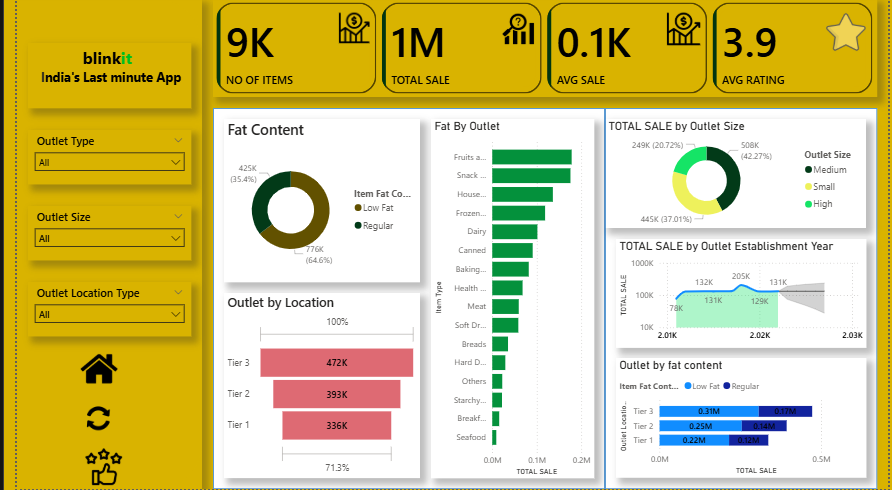

The dashboard page shown, as its layout file describes it:
{"tool":"powerbi","page":{"name":"Page 1","canvas":[1280,720],"ordinal":0},"visuals":[{"type":"textbox","box":[16,16,240,144],"z":1000},{"type":"shape","box":[0,0,272,720],"z":1001},{"type":"textbox","box":[16,64,240,96],"z":1002},{"type":"cardVisual","fields":{"Data":["BlinkIT Grocery Data.NO OF ITEMS","BlinkIT Grocery Data.TOTAL SALE","BlinkIT Grocery Data.AVG SALE","BlinkIT Grocery Data.AVG RATING"]},"box":[288,0,976,144],"z":1003},{"type":"slicer","fields":{"Values":["BlinkIT Grocery Data.Outlet Type"]},"box":[16,192,240,80],"z":1004},{"type":"slicer","fields":{"Values":["BlinkIT Grocery Data.Outlet Size"]},"box":[16,304,240,80],"z":1005},{"type":"slicer","fields":{"Values":["BlinkIT Grocery Data.Outlet Location Type"]},"box":[16,416,240,80],"z":1007},{"type":"clusteredBarChart","title":"Fat By Outlet","fields":{"Category":["BlinkIT Grocery Data.Item Type"],"Y":["BlinkIT Grocery Data.TOTAL SALE"]},"box":[304,176,240,400],"z":1008},{"type":"shape","box":[288,160,576,560],"z":1009},{"type":"donutChart","title":"Fat Content","fields":{"Category":["BlinkIT Grocery Data.Item Fat Content"],"Y":["BlinkIT Grocery Data.TOTAL SALE"]},"box":[304,176,288,240],"z":1010},{"type":"funnel","title":"Outlet by Location","fields":{"Category":["BlinkIT Grocery Data.Outlet Location Type"],"Y":["BlinkIT Grocery Data.TOTAL SALE"]},"box":[304,432,288,272],"z":1011},{"type":"clusteredBarChart","title":"Fat By Outlet","fields":{"Category":["BlinkIT Grocery Data.Item Type"],"Y":["BlinkIT Grocery Data.TOTAL SALE"]},"box":[608,176,240,528],"z":1012},{"type":"shape","box":[864,160,400,560],"z":1013},{"type":"donutChart","fields":{"Category":["BlinkIT Grocery Data.Outlet Size"],"Y":["BlinkIT Grocery Data.TOTAL SALE"]},"box":[864,176,384,160],"z":1014},{"type":"lineChart","fields":{"Category":["BlinkIT Grocery Data.Outlet Establishment Year"],"Y":["BlinkIT Grocery Data.TOTAL SALE"]},"box":[880,352,368,160],"z":1015},{"type":"barChart","title":"Outlet by fat content","fields":{"Category":["BlinkIT Grocery Data.Outlet Location Type"],"Series":["BlinkIT Grocery Data.Item Fat Content"],"Y":["BlinkIT Grocery Data.TOTAL SALE"]},"box":[880,528,368,176],"z":1016},{"type":"image","box":[64,512,112,64],"z":1017},{"type":"image","box":[96,592,48,48],"z":1018},{"type":"image","box":[96,656,64,64],"z":1019}]}

Visuals, with their boxes in screenshot pixels (x1, y1, x2, y2), scaled from the page's 1280x720 canvas onto the 892x490 screenshot:
textbox: (11, 11, 178, 109)
shape: (0, 0, 190, 489)
textbox: (11, 44, 178, 109)
cardVisual - BlinkIT Grocery Data.NO OF ITEMS x BlinkIT Grocery Data.TOTAL SALE: (201, 0, 881, 98)
slicer - BlinkIT Grocery Data.Outlet Type: (11, 131, 178, 185)
slicer - BlinkIT Grocery Data.Outlet Size: (11, 207, 178, 261)
slicer - BlinkIT Grocery Data.Outlet Location Type: (11, 283, 178, 338)
"Fat By Outlet" clusteredBarChart: (212, 120, 379, 392)
shape: (201, 109, 602, 489)
"Fat Content" donutChart: (212, 120, 413, 283)
"Outlet by Location" funnel: (212, 294, 413, 479)
"Fat By Outlet" clusteredBarChart: (424, 120, 591, 479)
shape: (602, 109, 881, 489)
donutChart - BlinkIT Grocery Data.Outlet Size x BlinkIT Grocery Data.TOTAL SALE: (602, 120, 870, 229)
lineChart - BlinkIT Grocery Data.Outlet Establishment Year x BlinkIT Grocery Data.TOTAL SALE: (613, 240, 870, 348)
"Outlet by fat content" barChart: (613, 359, 870, 479)
image: (45, 348, 123, 392)
image: (67, 403, 100, 436)
image: (67, 446, 112, 489)
